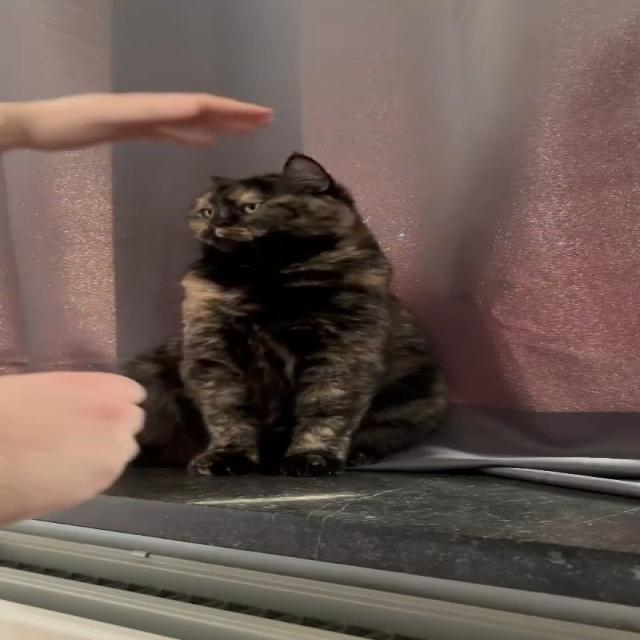authorized: (121, 150, 451, 477)
